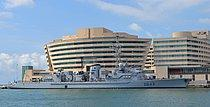MIL_Ship: (8, 60, 192, 89)
